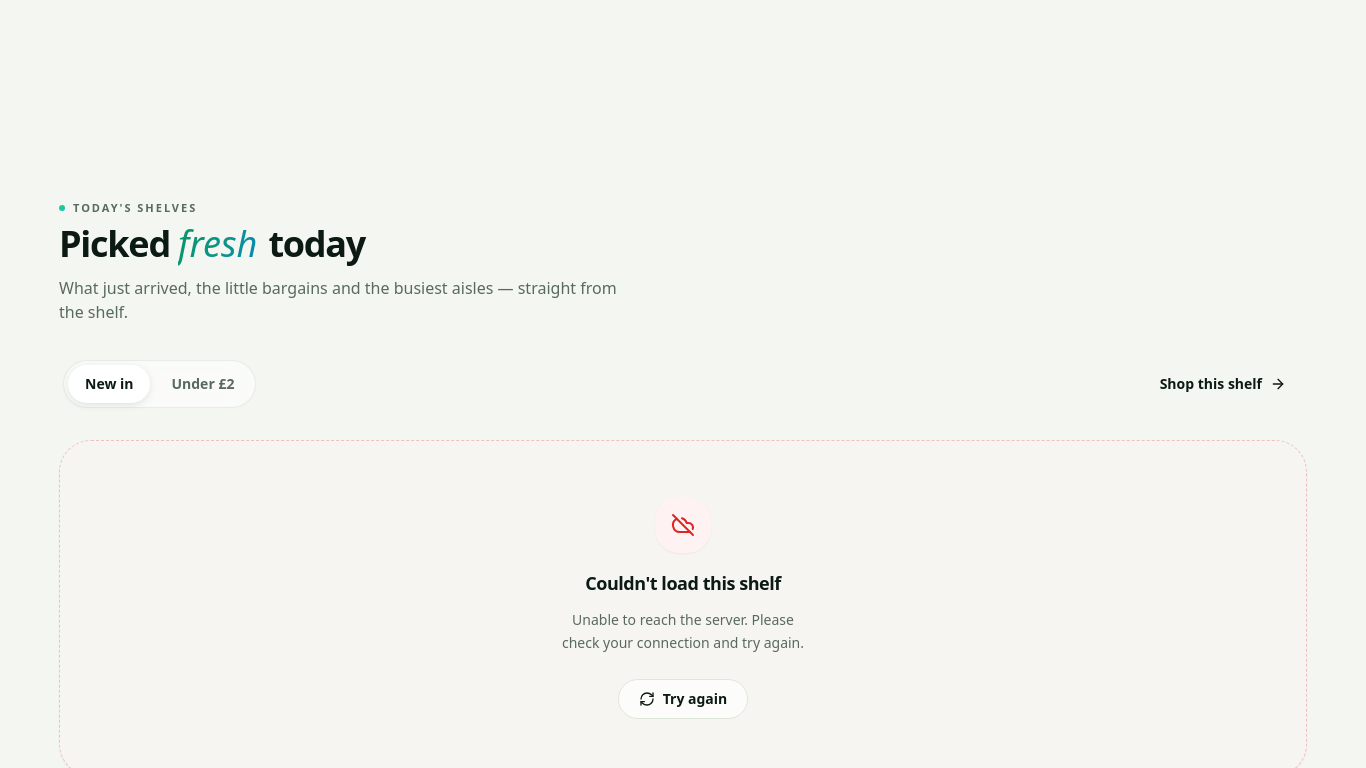
HomeView › switches the products shelf between tabs
(page scrolled)
Click the tab "Under £2": (203, 384) left=154, top=365, right=251, bottom=403
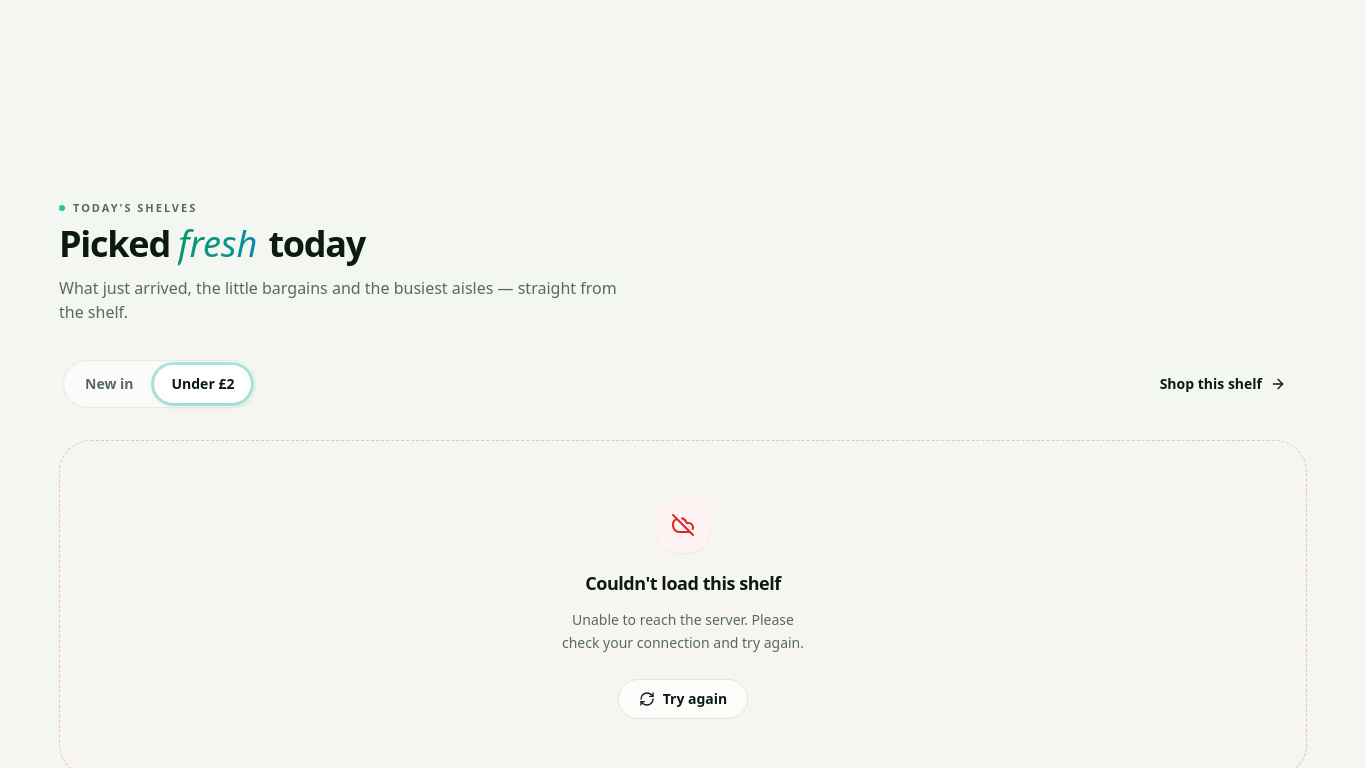
Expected: the tab "Under £2" is selected, left=154, top=365, right=251, bottom=403
Expected: the tab "New in" is not selected, left=68, top=365, right=150, bottom=403
